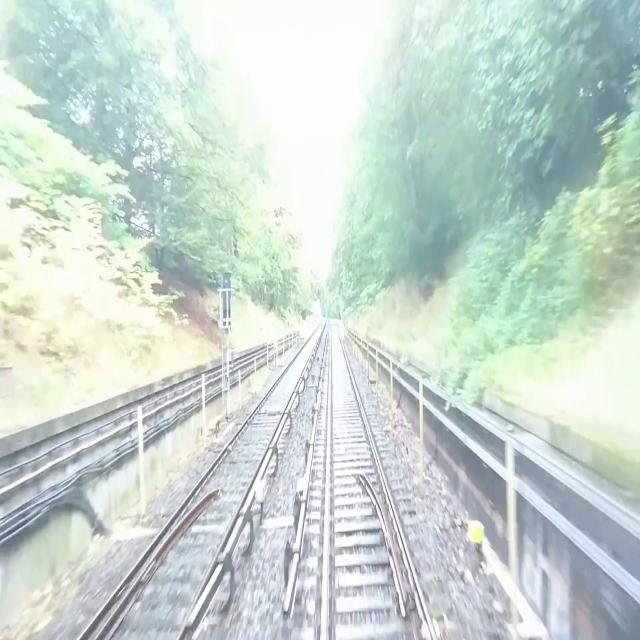rail-track: (102, 324, 321, 639), (327, 324, 431, 639)
